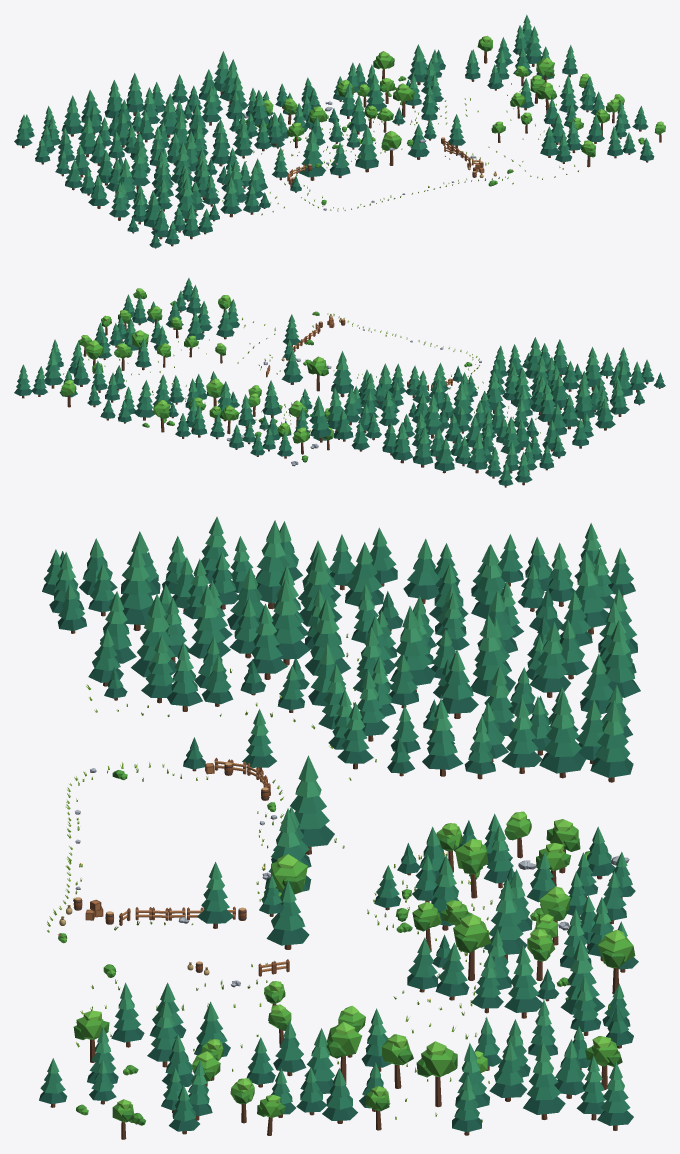
Rendered from Arena_Meadow_Scatter.fbx.
3 renders of one model, top to bottom at view 1: azimuth 30°, elevation 25°; view 2: azimuth 150°, elevation 25°; view 3: azimuth 270°, elevation 25°, orthographic. The views are drawn at different scales.
Parts seen in each view (by area): view 1: Arena_Meadow_Scatter.001; view 2: Arena_Meadow_Scatter.001; view 3: Arena_Meadow_Scatter.001.
Part boxes in pixels (left/top/right/bottom): Arena_Meadow_Scatter.001: left=14, top=14, right=665, bottom=248; Arena_Meadow_Scatter.001: left=14, top=278, right=665, bottom=487; Arena_Meadow_Scatter.001: left=39, top=516, right=640, bottom=1139.
Size of the model in its own units: 73.6 by 10.27 by 36.99.
